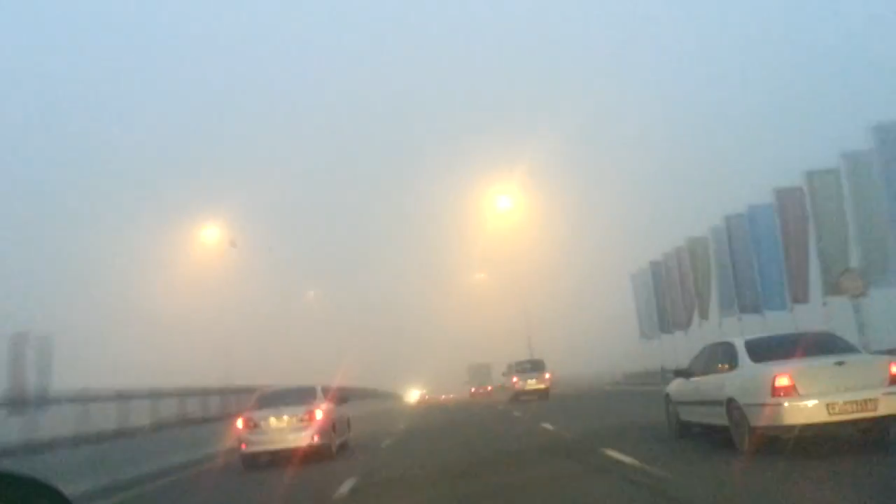bus: (464, 362, 497, 402)
car: (653, 324, 896, 453), (232, 378, 353, 470), (497, 356, 553, 404)
